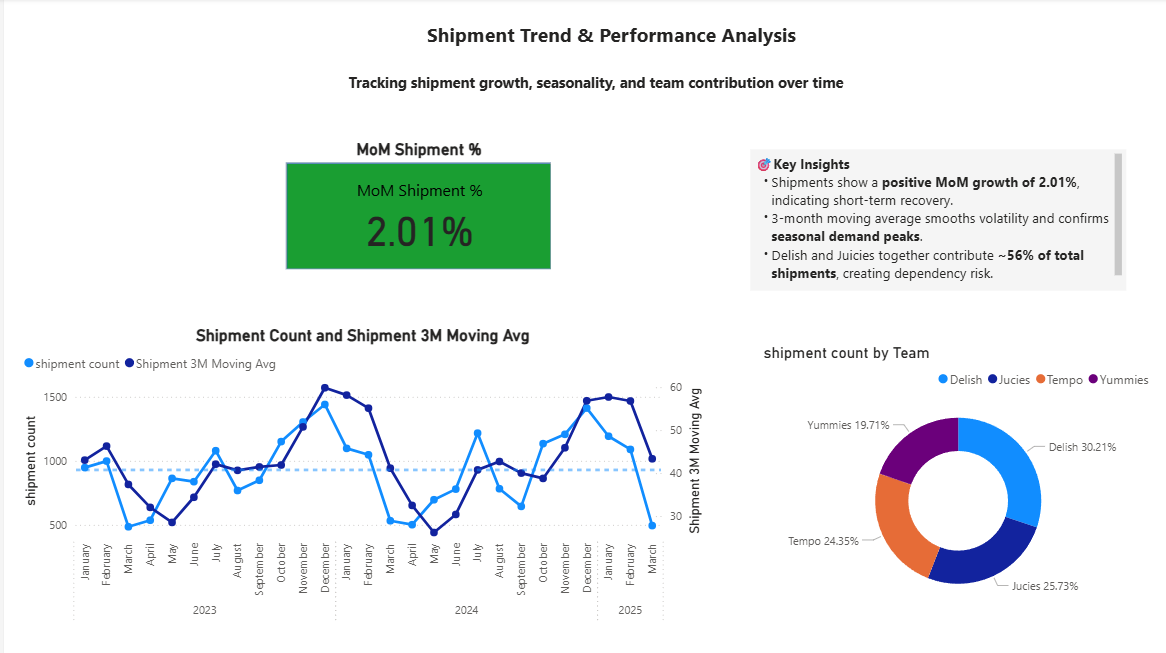

This screenshot's page, from the dashboard's own definition file:
{"tool":"powerbi","page":{"name":"Page 6","canvas":[1280,720],"ordinal":5},"visuals":[{"type":"lineChart","fields":{"Category":["calendar.year","calendar.month_name"],"Y":["shipments.total amount","shipments.total amount (last year)"]},"box":[19.4,0,561.1,333.3],"z":0},{"type":"tableEx","fields":{"Values":["calendar.year","calendar.month_name","shipments.total amount","shipments.total amount (last year)","shipments.total amount(12 month variance)"]},"box":[618.1,0,590.3,665.3],"z":1000},{"type":"donutChart","fields":{"Category":["locations.Geo"],"Y":["shipments.total amount"]},"box":[19.4,333.3,561.1,286.1],"z":2000}]}

Visuals, with their boxes in screenshot pixels (x1, y1, x2, y2), scaled from the page's 1280x720 canvas onto the 1166x653 screenshot:
lineChart - calendar.year x calendar.month_name: 18/0/529/302
tableEx - calendar.year x calendar.month_name: 563/0/1101/603
donutChart - locations.Geo x shipments.total amount: 18/302/529/562
